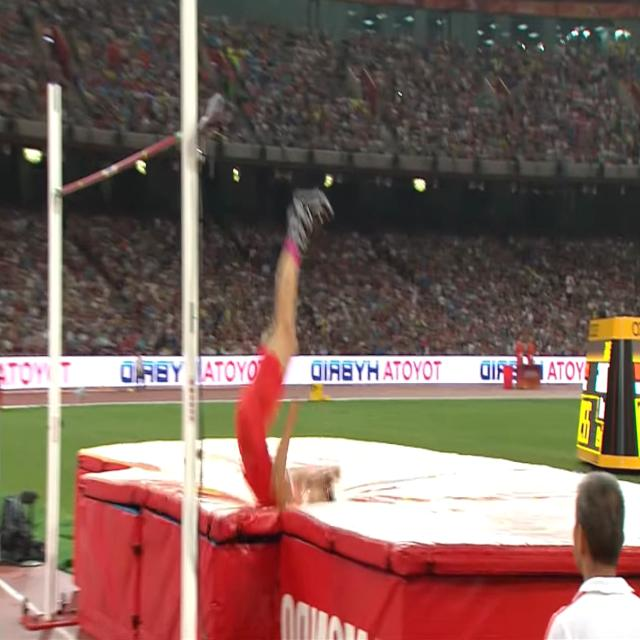land: (237, 187, 340, 504)
